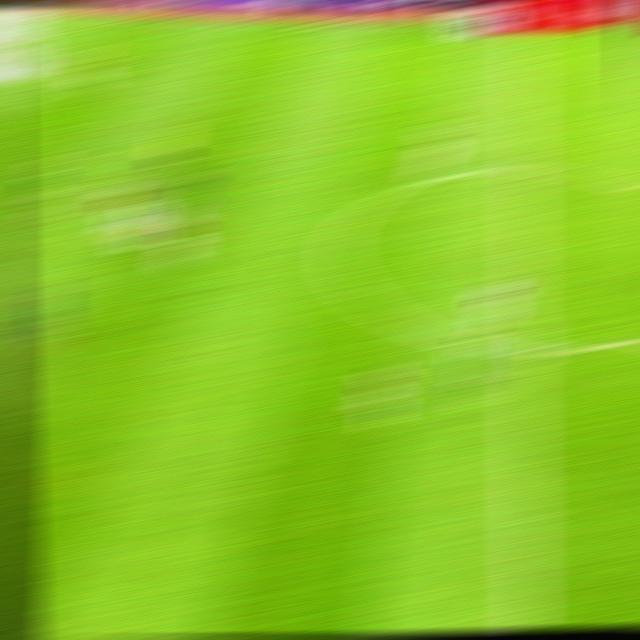halfcircle_bottom: (499, 330, 551, 368)
halfcircle_top: (499, 151, 551, 189)
